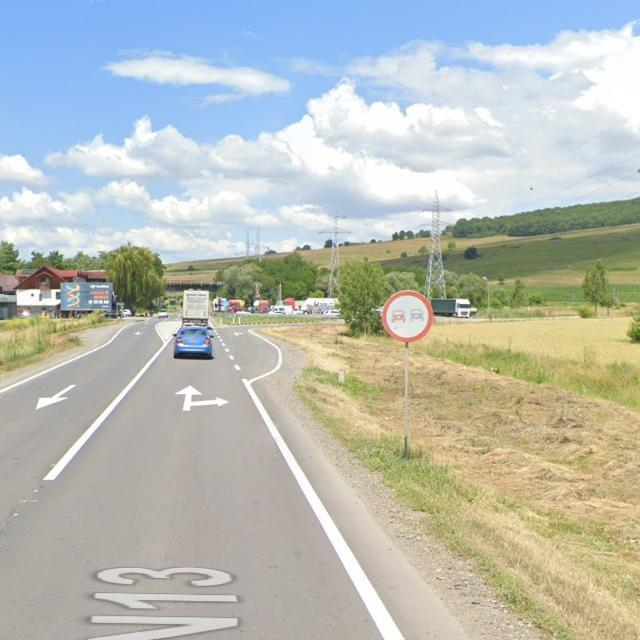forb_overtake: (380, 289, 433, 344)
